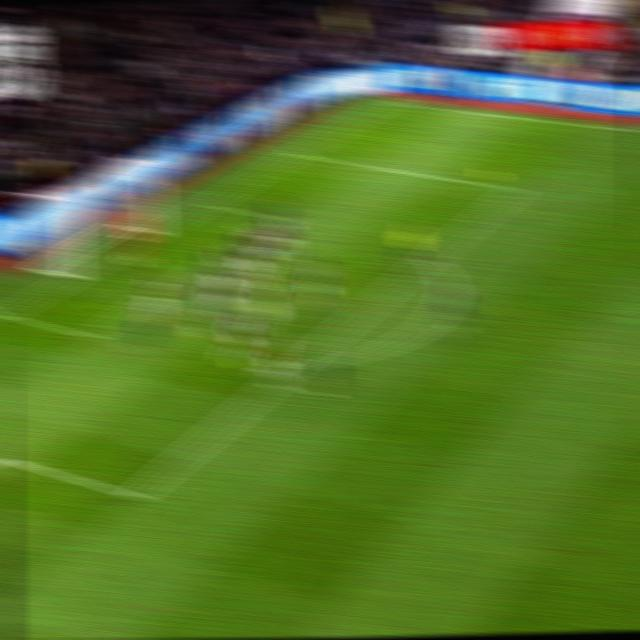bigarea_bottom_inner: (116, 474, 155, 512)
bigarea_top_inner: (500, 176, 532, 201)
bigarea_top_outter: (284, 142, 312, 163)
bottom_arc_area_intersection: (282, 351, 312, 376)
corner: (373, 92, 408, 109)
smallarea_bottom_inner: (72, 318, 108, 350)
smallarea_bottom_outter: (0, 300, 22, 326)
smallarea_top_outter: (193, 192, 224, 214)
top_arc_area_intersection: (414, 245, 444, 270)
